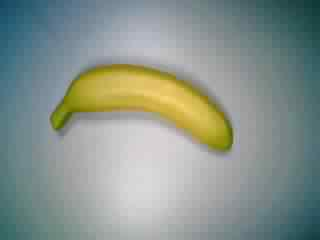banana: (45, 63, 238, 163)
